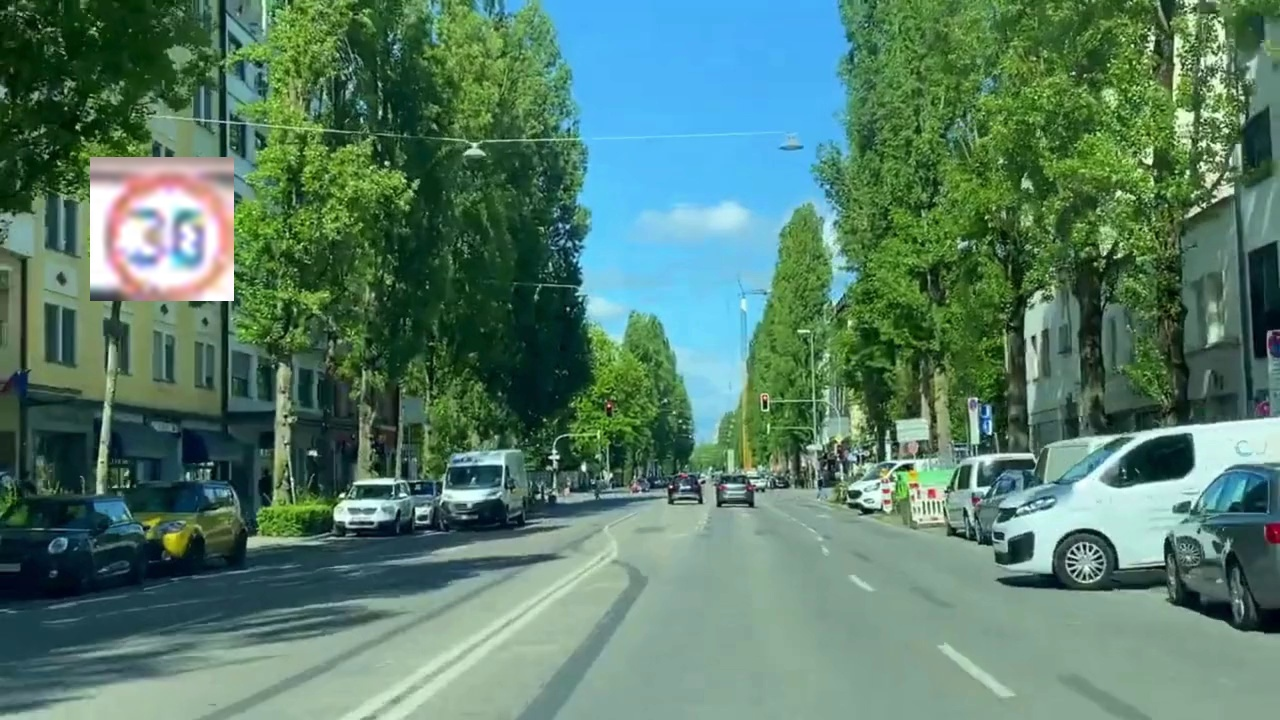Speed 30: (90, 157, 234, 301)
